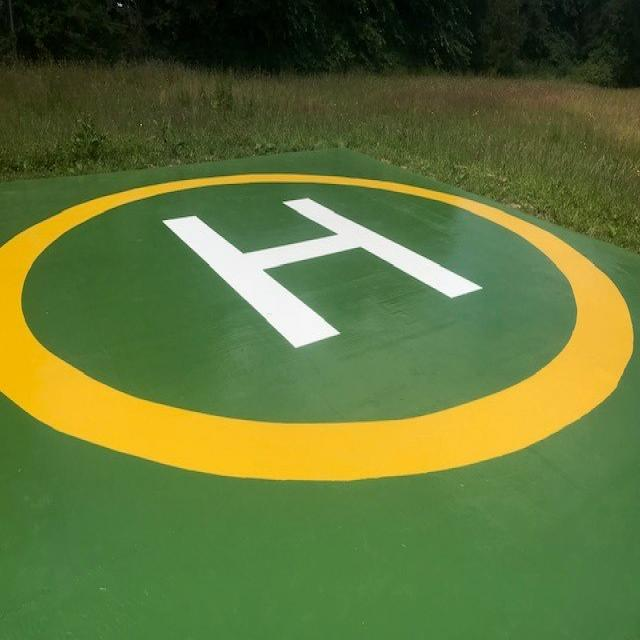helipad: (0, 164, 639, 487)
